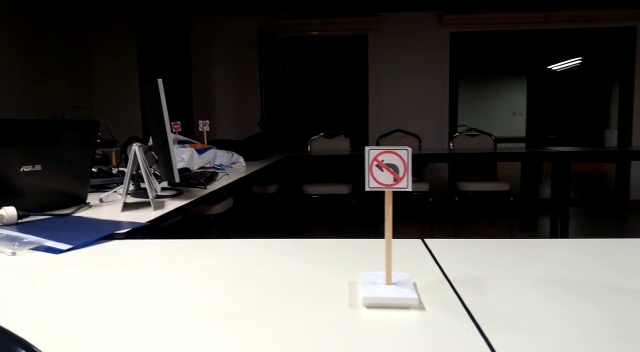sola_donulmez: (367, 147, 410, 189)
